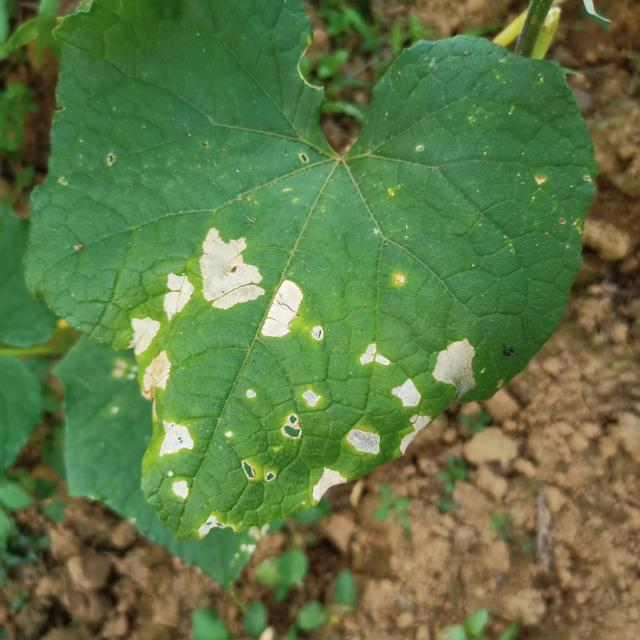disease_cucumber: (200, 224, 304, 340), (129, 316, 177, 394), (389, 378, 431, 454), (434, 337, 481, 397), (161, 417, 194, 502), (282, 387, 322, 437), (307, 464, 349, 500), (165, 270, 194, 318), (344, 428, 385, 454), (358, 342, 392, 373)
